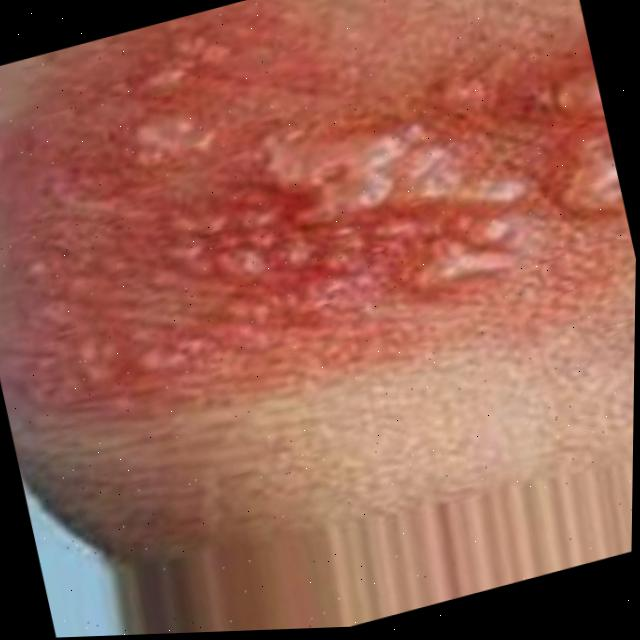Shingles: (71, 0, 640, 396)
